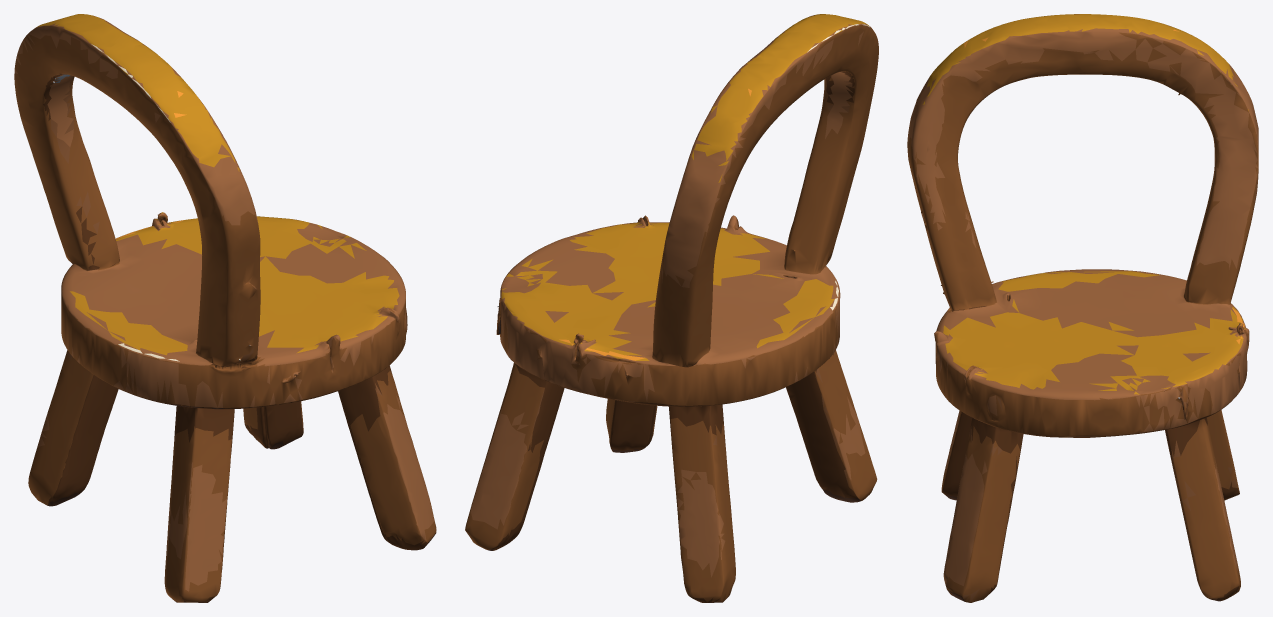
File: SM_chair_bentwood.glb
3 renders of one model, left to right at view 1: azimuth 30°, elevation 25°; view 2: azimuth 150°, elevation 25°; view 3: azimuth 270°, elevation 25°, orthographic. The views are drawn at different scales.
Parts seen in each view (by area): view 1: SM_chair_bentwood; view 2: SM_chair_bentwood; view 3: SM_chair_bentwood.
Boxes of the visible parts, x1=… form: SM_chair_bentwood: x1=14, y1=14, x2=436, y2=602; SM_chair_bentwood: x1=465, y1=14, x2=878, y2=602; SM_chair_bentwood: x1=907, y1=14, x2=1258, y2=602.
Size of the model in its own units: 0.5063 by 0.85 by 0.5703.
1 material, 1 textured.
